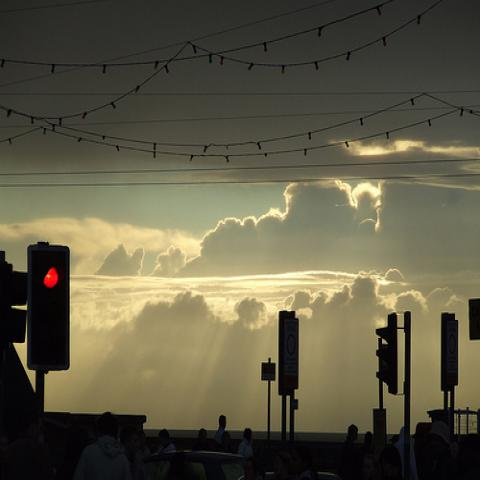car: (140, 450, 249, 478)
